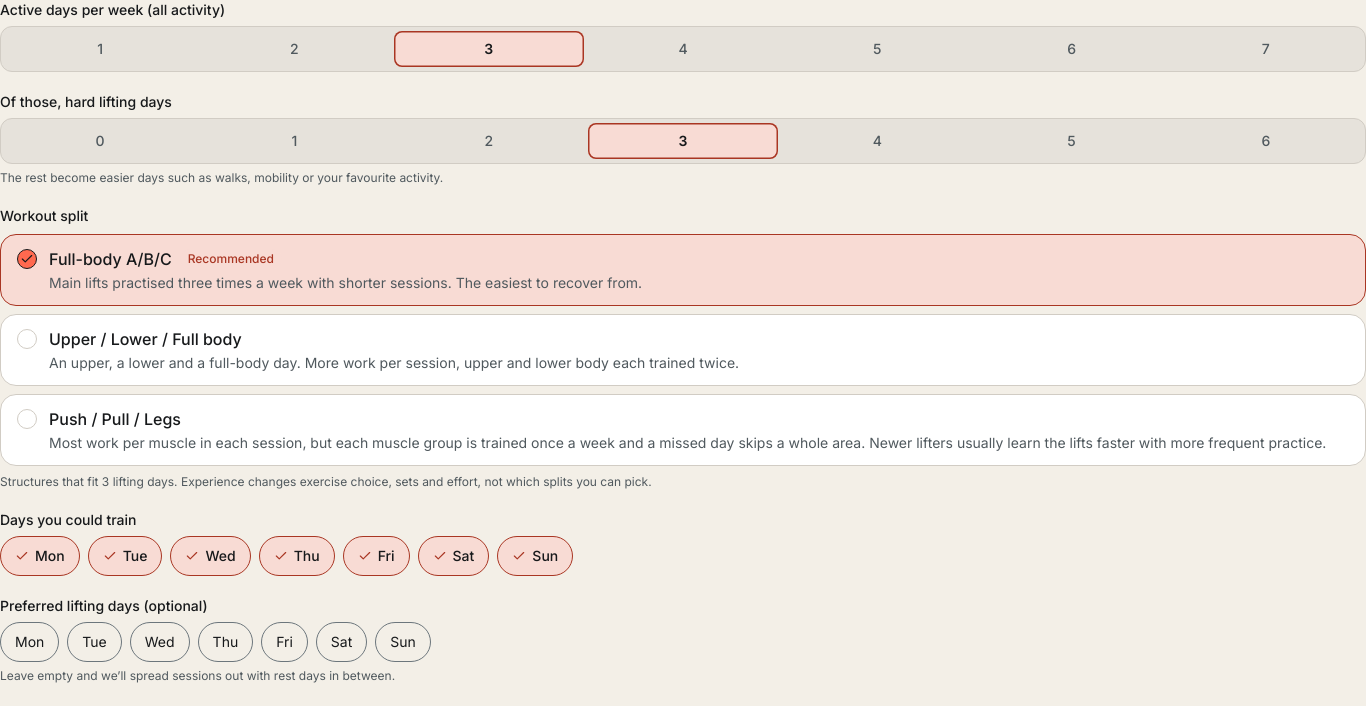
wizard split selector › stores an explicit choice and keeps the intent when the lifting-day count changes
Step 1. Click the radio button that starts with "Upper / Lower / Full body" → x=145, y=339, box [0,314,1365,386]
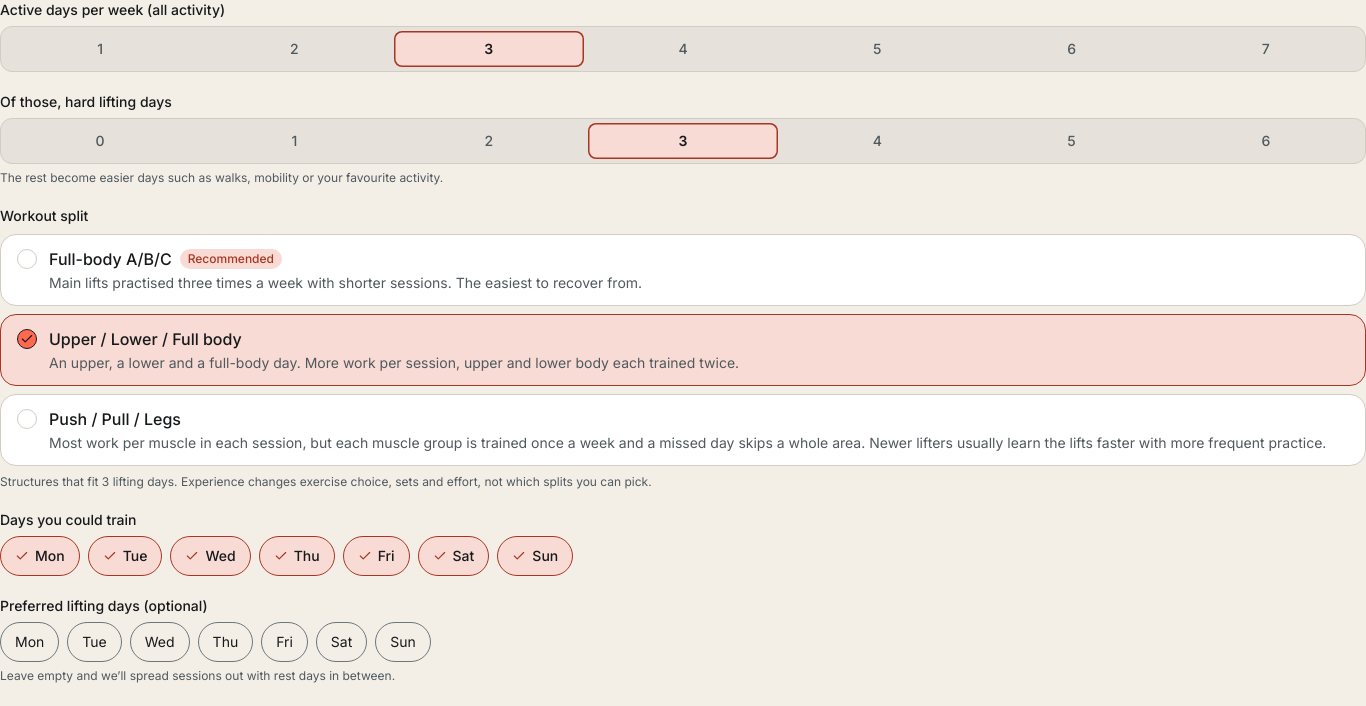
Step 2. Click the radio button labelled "2" below "Of those, hard lifting days" → x=489, y=141, box [394,123,584,159]
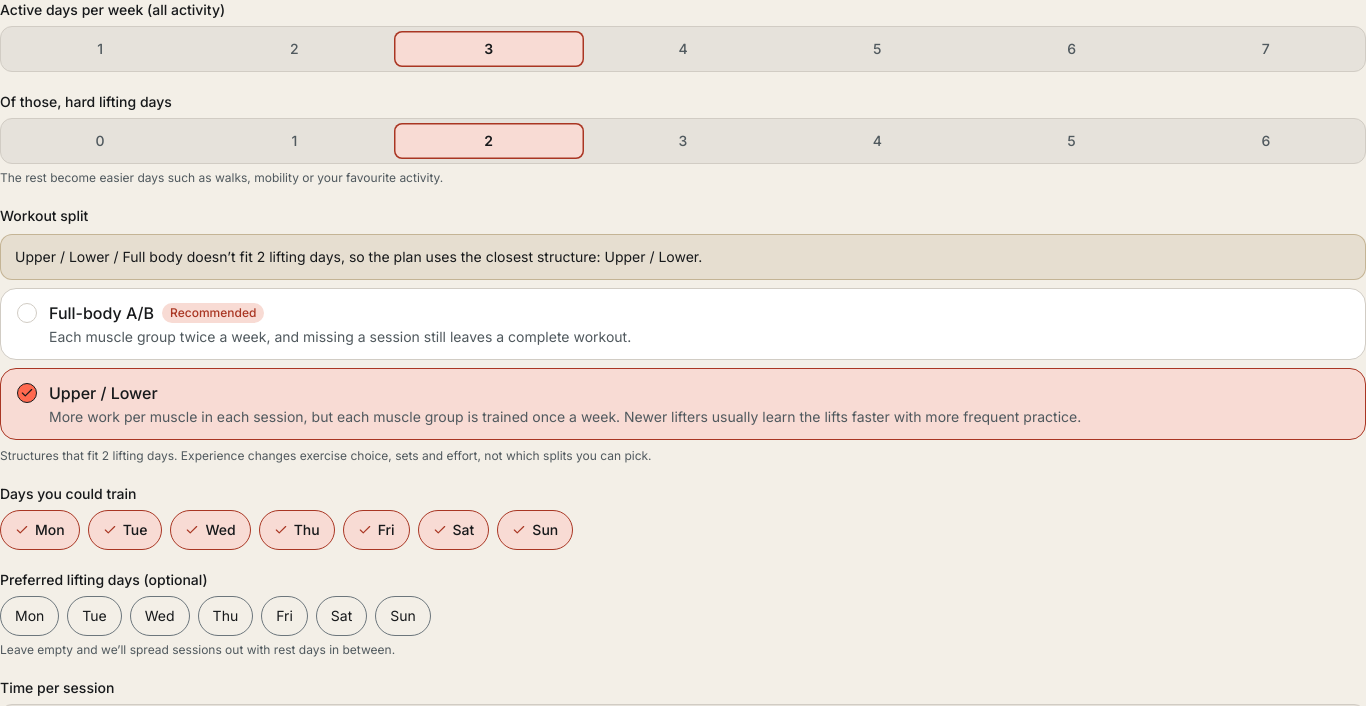
Now the message shows "closest structure: Upper / Lower", box [15,248,702,265]
Step 3. Click the 2nd radio button labelled "3" → x=683, y=141, box [588,123,778,159]
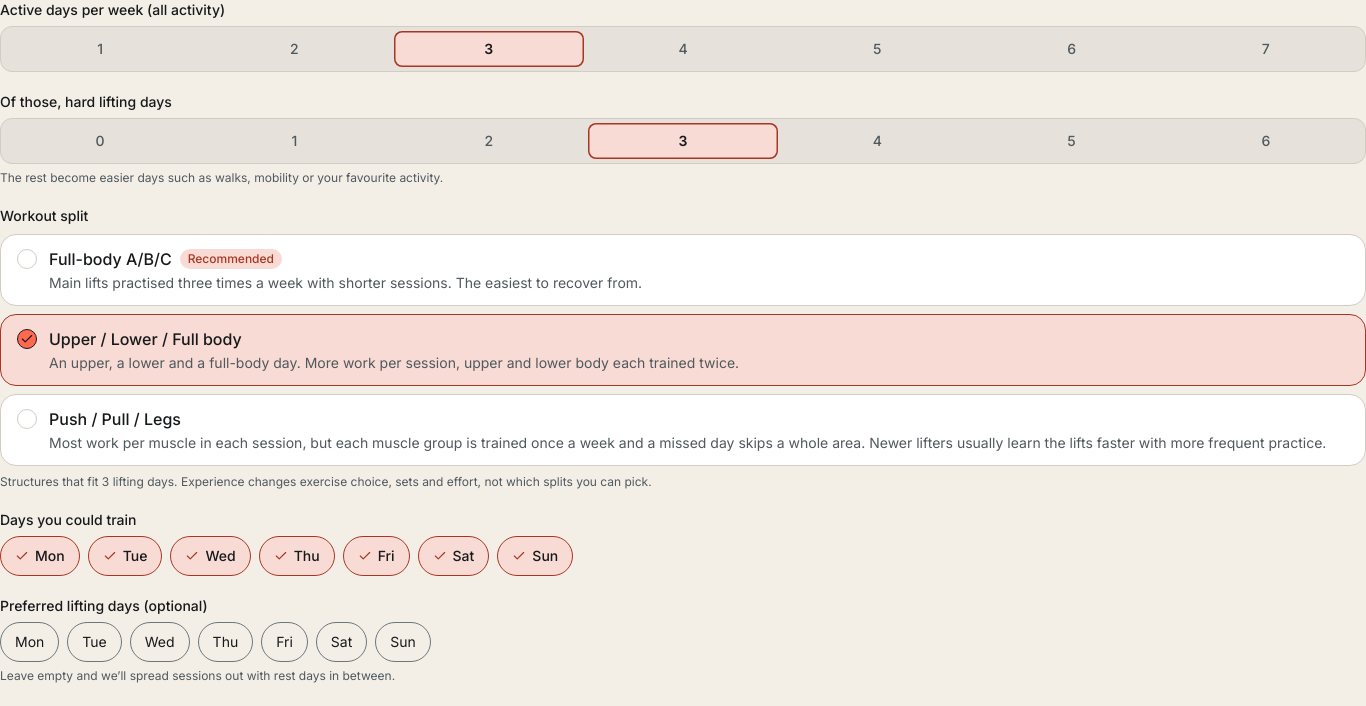
Now the message is gone
